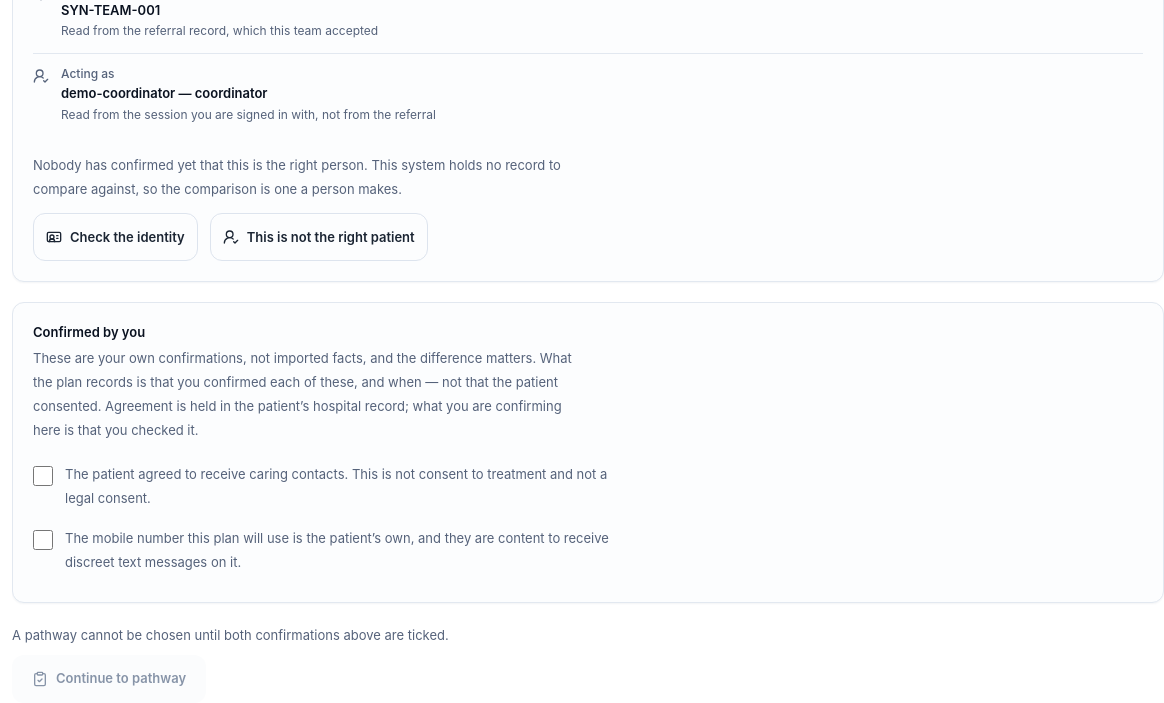
the caring-contacts plan wizard — stage 1, agreement (Ruling [112]) › will not go to the pathway stage until both confirmations are ticked, and says why
(page scrolled)
Expected: the button "Continue to pathway" is disabled, x1=12 y1=654 x2=206 y2=702
Expected: the text "A pathway cannot be chosen until both confirmations above are ticked." is shown, x1=12 y1=626 x2=449 y2=642
Click the 1st checkbox.
click(43, 476)  # box x1=33 y1=466 x2=53 y2=486
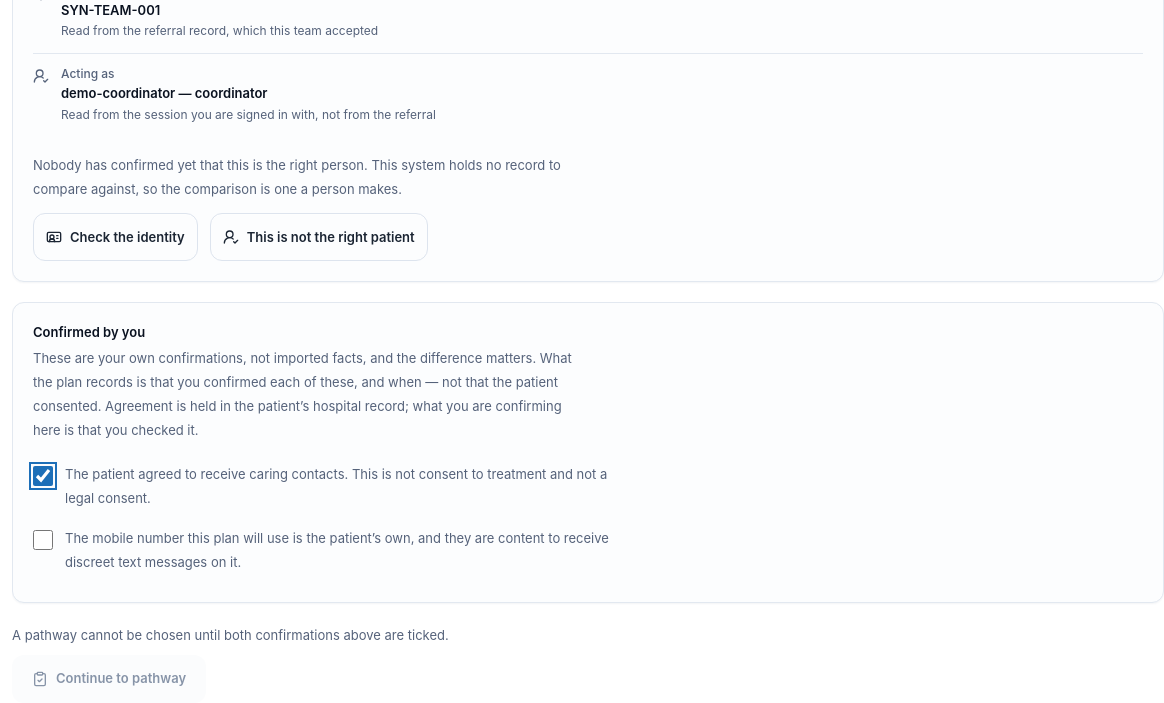
Expected: the button "Continue to pathway" is disabled, x1=12 y1=654 x2=206 y2=702
Click the 2nd checkbox.
click(43, 540)  # box x1=33 y1=530 x2=53 y2=550
(page scrolled)
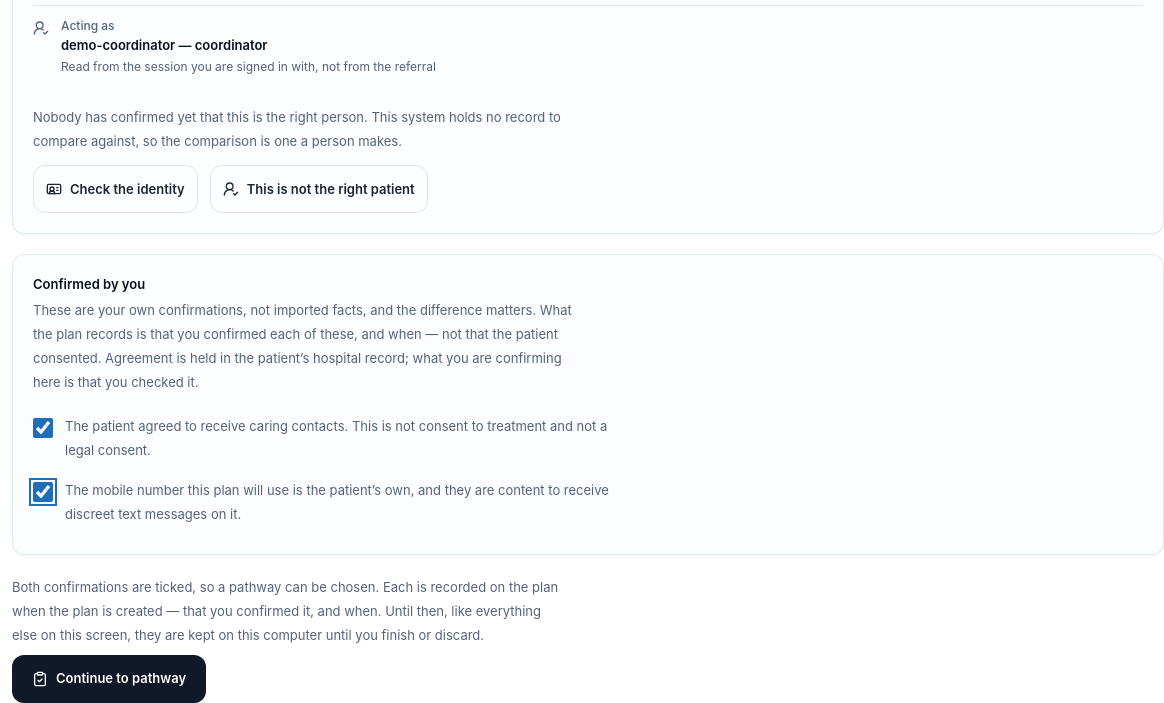
Expected: the button "Continue to pathway" is enabled, x1=12 y1=654 x2=206 y2=702
